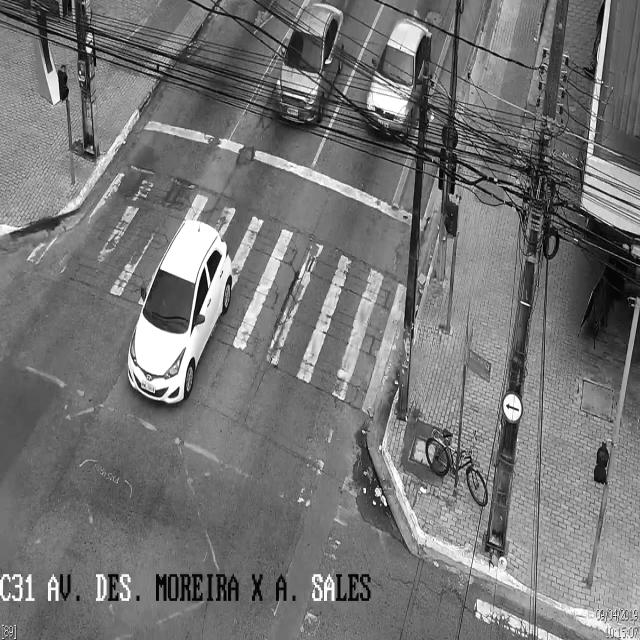Car: (127, 217, 233, 403), (273, 3, 343, 125), (363, 18, 433, 138)
